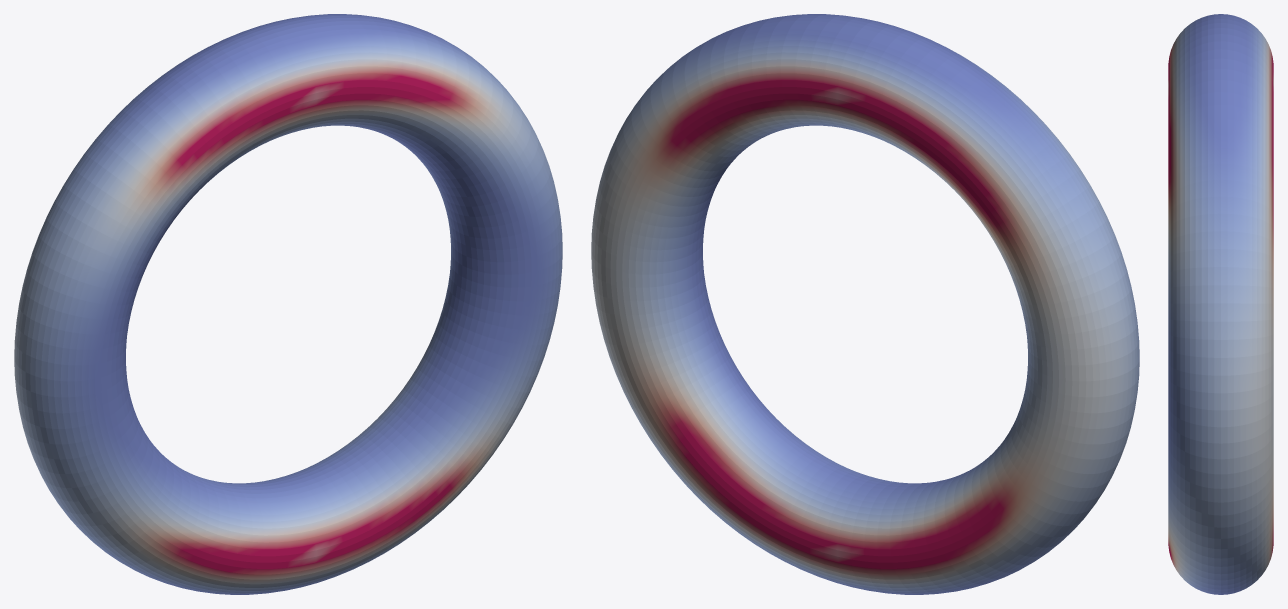
3 views of the same model, side by side, from view 1: azimuth 30°, elevation 25°; view 2: azimuth 150°, elevation 25°; view 3: azimuth 270°, elevation 25° (orthographic). The views are drawn at different scales.
Parts seen in each view (by area): view 1: world; view 2: world; view 3: world.
Boxes of the visible parts, bbox=[...] form: world: bbox=[14, 14, 562, 594]; world: bbox=[591, 14, 1139, 594]; world: bbox=[1168, 14, 1273, 594].
Size of the model in its own units: 22.8 by 22.8 by 4.13.
